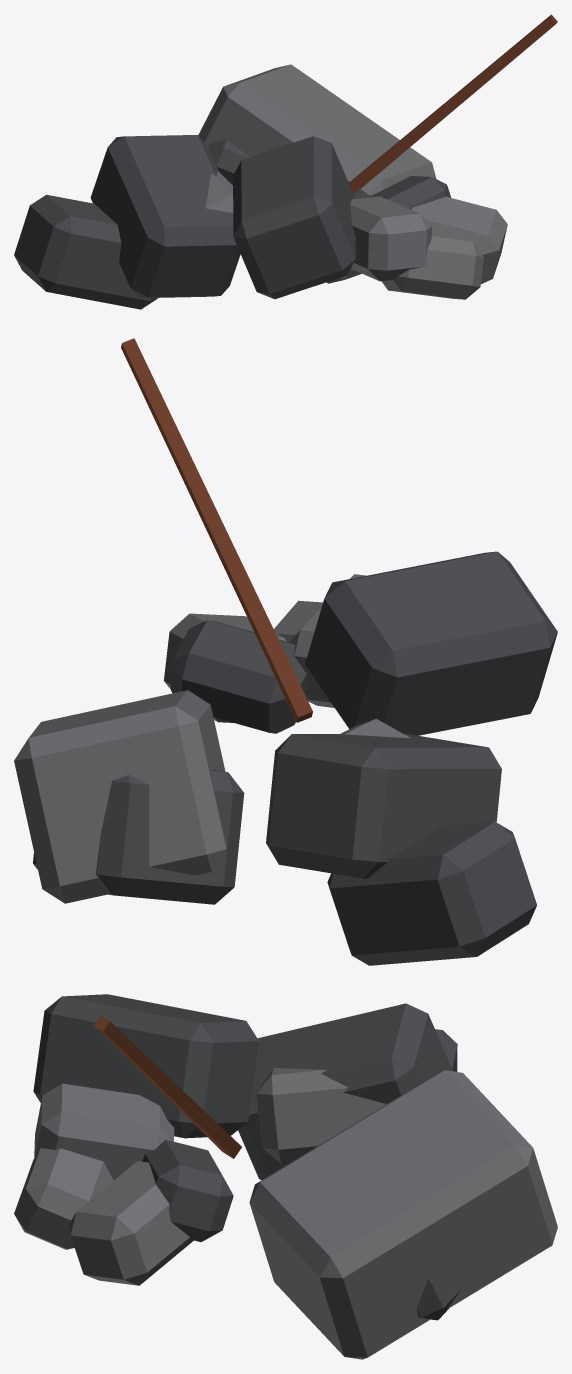
Rendered from rubble.glb.
3 renders of one model, top to bottom at view 1: azimuth 30°, elevation 25°; view 2: azimuth 150°, elevation 25°; view 3: azimuth 270°, elevation 25°, orthographic. The views are drawn at different scales.
Visible parts, largest first — view 1: Rubble; view 2: Rubble; view 3: Rubble.
Part boxes in pixels (<box>): Rubble: <box>14,14,557,309</box>; Rubble: <box>14,338,557,965</box>; Rubble: <box>14,994,557,1359</box>.
Size of the model in its own units: 0.6753 by 0.4859 by 0.6256.
